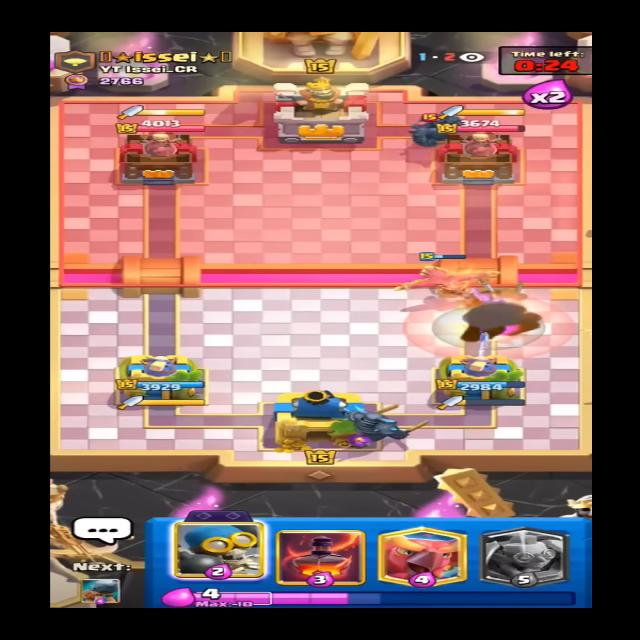Pekka: (394, 101, 475, 150)
